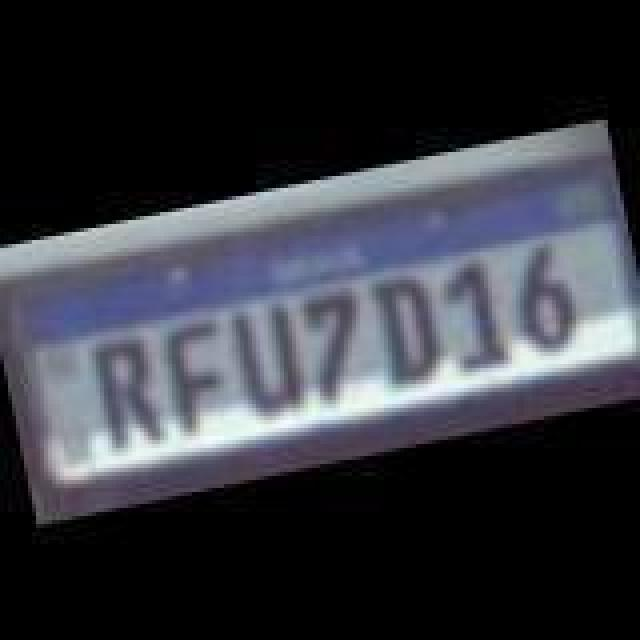1: (434, 250, 518, 374)
6: (504, 236, 584, 356)
7: (296, 282, 376, 406)
D: (366, 264, 450, 392)
F: (150, 314, 242, 446)
R: (88, 332, 168, 452)
U: (220, 296, 308, 424)
